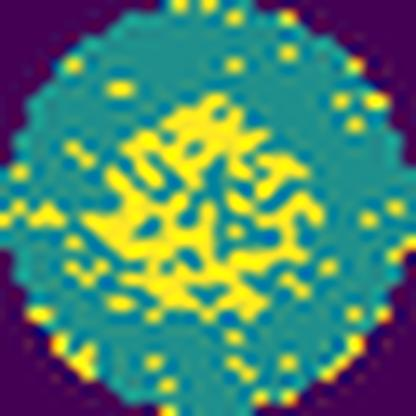Donut: (67, 88, 333, 336)
